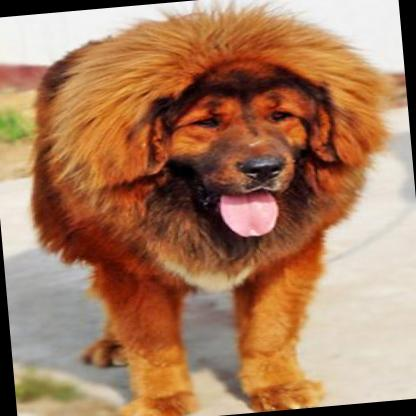Tibetan_mastiff: (9, 0, 416, 416)
